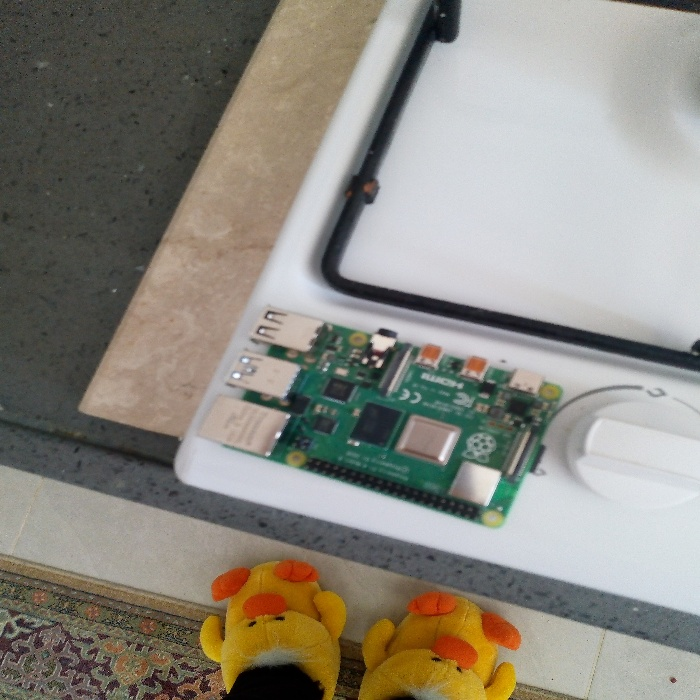raspberry: (161, 295, 572, 534)
